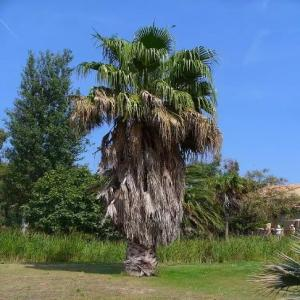palm tree: (68, 20, 224, 277)
